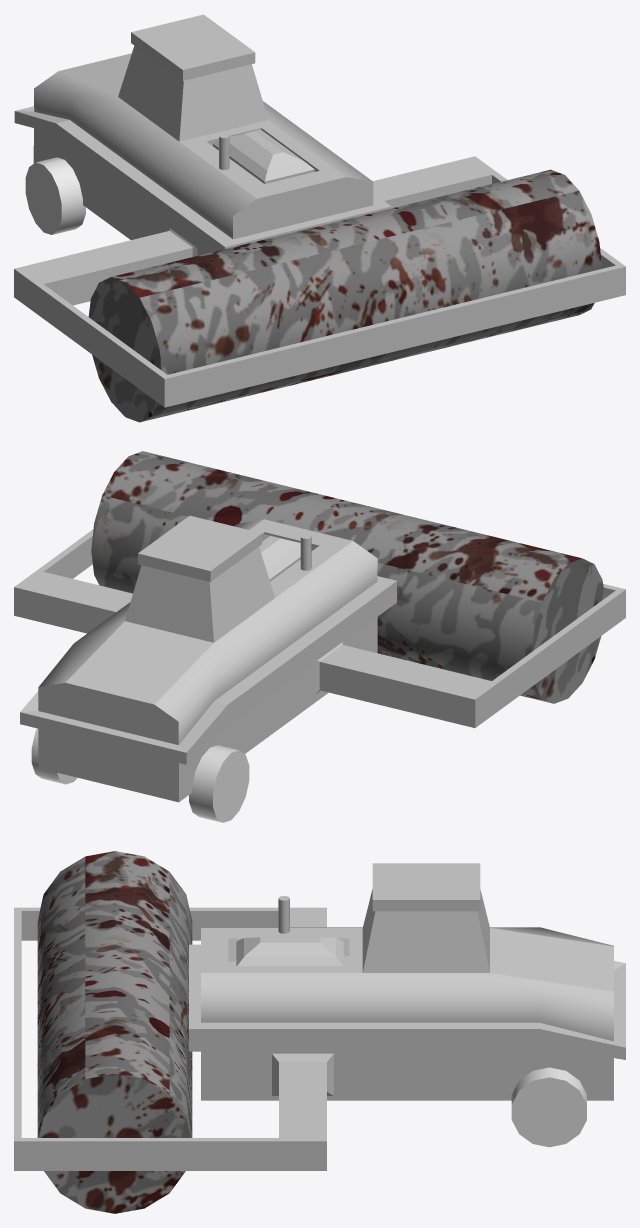
The model's file is Vehiculo.FBX.
3 views of the same model, one above another, from view 1: azimuth 30°, elevation 25°; view 2: azimuth 150°, elevation 25°; view 3: azimuth 270°, elevation 25° (orthographic). The views are drawn at different scales.
Visible parts, largest first — view 1: Box001, Object004, Cylinder001; view 2: Box001, Object004, Cylinder001, Cylinder002; view 3: Box001, Object004, Cylinder002.
Part boxes in pixels (x1=…): Box001: x1=14, y1=14, x2=625, y2=407; Object004: x1=88, y1=169, x2=601, y2=422; Cylinder001: x1=25, y1=157, x2=85, y2=234; Box001: x1=14, y1=515, x2=625, y2=802; Object004: x1=91, y1=451, x2=604, y2=703; Cylinder001: x1=189, y1=745, x2=249, y2=822; Cylinder002: x1=31, y1=728, x2=77, y2=784; Box001: x1=14, y1=863, x2=625, y2=1170; Object004: x1=37, y1=851, x2=192, y2=1213; Cylinder002: x1=511, y1=1067, x2=586, y2=1147.
Bounding box in the file's own units: 71.53 × 31.4 × 79.2.
